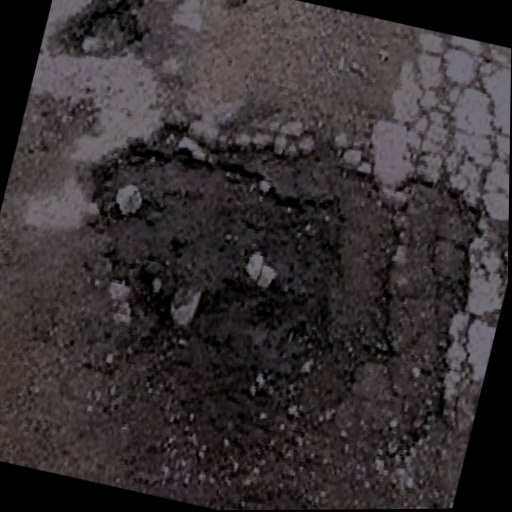pothole: (29, 90, 432, 496), (53, 0, 163, 73)
